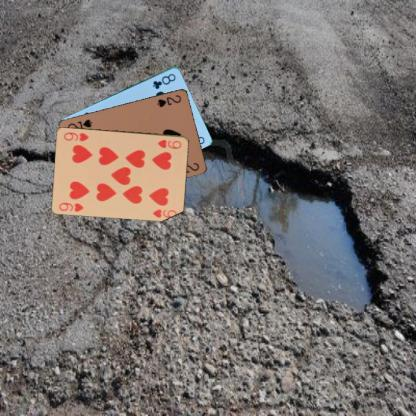2s: (155, 92, 182, 108)
8c: (150, 71, 177, 90)
9h: (57, 200, 85, 213), (155, 137, 182, 150)
